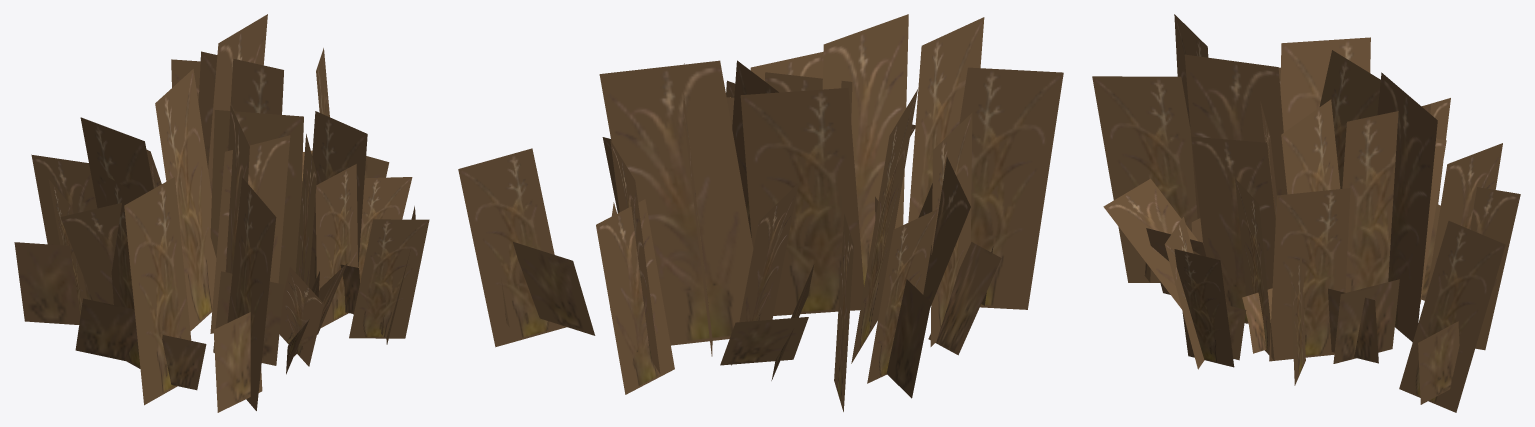
Rendered from SV_PLT_shamo_grass_0.FBX.
3 views of the same model, side by side, from view 1: azimuth 30°, elevation 25°; view 2: azimuth 150°, elevation 25°; view 3: azimuth 270°, elevation 25° (orthographic). The views are drawn at different scales.
Visible parts, largest first — view 1: SV_PLT_shamo_grass_0; view 2: SV_PLT_shamo_grass_0; view 3: SV_PLT_shamo_grass_0.
Boxes of the visible parts, x1,y1,x2,y2 form: SV_PLT_shamo_grass_0: (14,14,429,412); SV_PLT_shamo_grass_0: (458,14,1063,411); SV_PLT_shamo_grass_0: (1092,14,1520,412).
Size of the model in its own units: 1.78 by 1.16 by 1.71.
